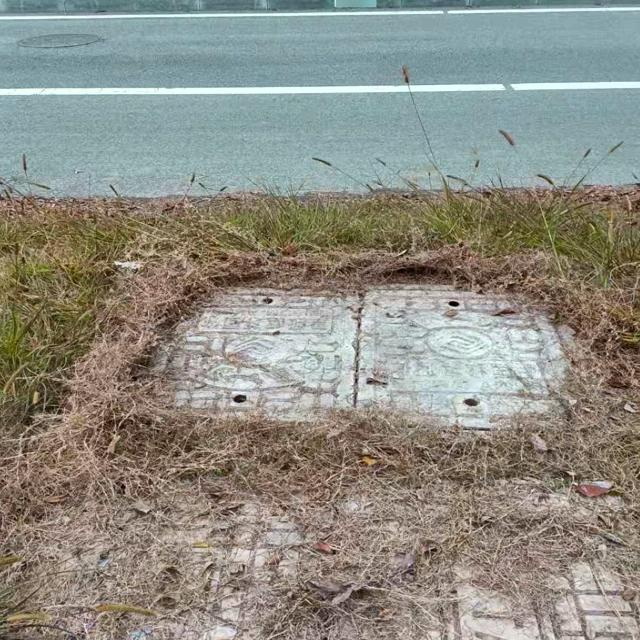good: (151, 283, 580, 425)
